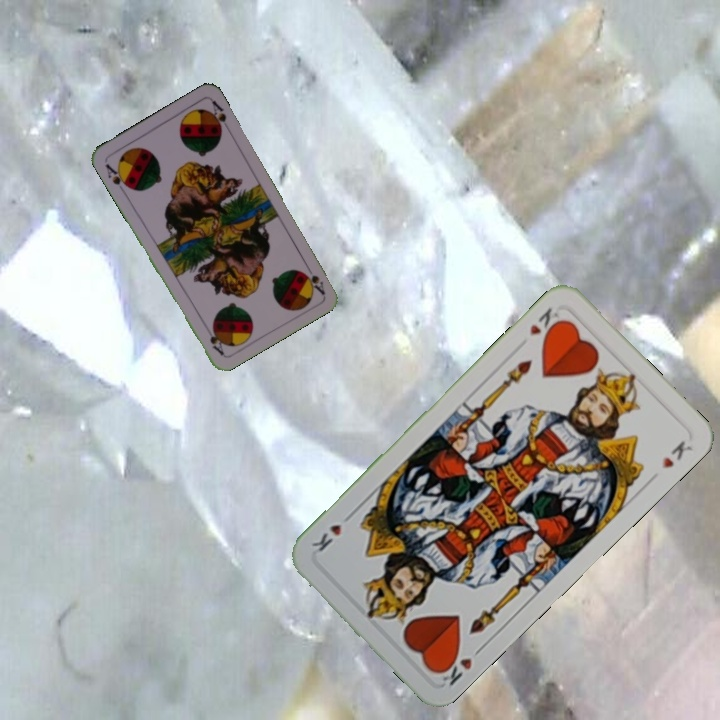HK: (434, 642, 487, 689), (525, 303, 568, 341)
SA: (101, 160, 133, 195), (300, 260, 327, 297)
